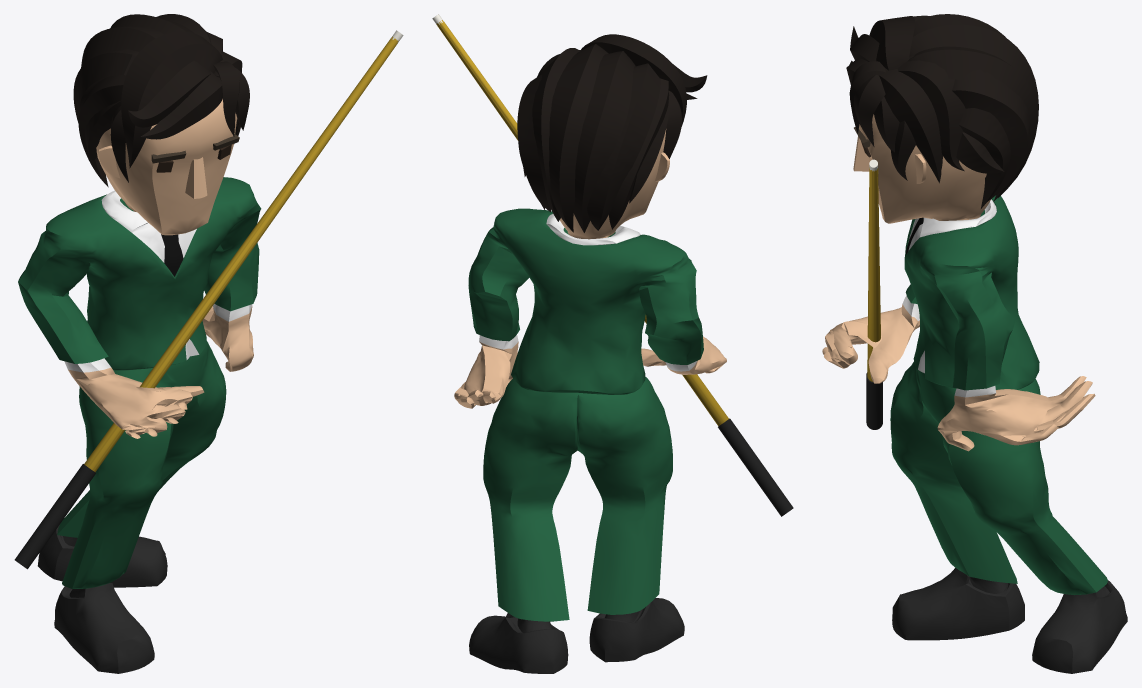
The model's file is av-jogador-sinuca.glb.
3 renders of one model, left to right at view 1: azimuth 30°, elevation 25°; view 2: azimuth 150°, elevation 25°; view 3: azimuth 270°, elevation 25°, orthographic. The views are drawn at different scales.
Visible parts, largest first — view 1: Ad_taco_0_0; view 2: Ad_taco_0_0; view 3: Ad_taco_0_0.
Boxes of the visible parts, x1,y1,x2,y2 form: Ad_taco_0_0: (14, 14, 403, 673); Ad_taco_0_0: (432, 14, 793, 673); Ad_taco_0_0: (822, 14, 1127, 673).
Size of the model in its own units: 0.9054 by 1.39 by 0.6107.
1 material, 1 textured.
